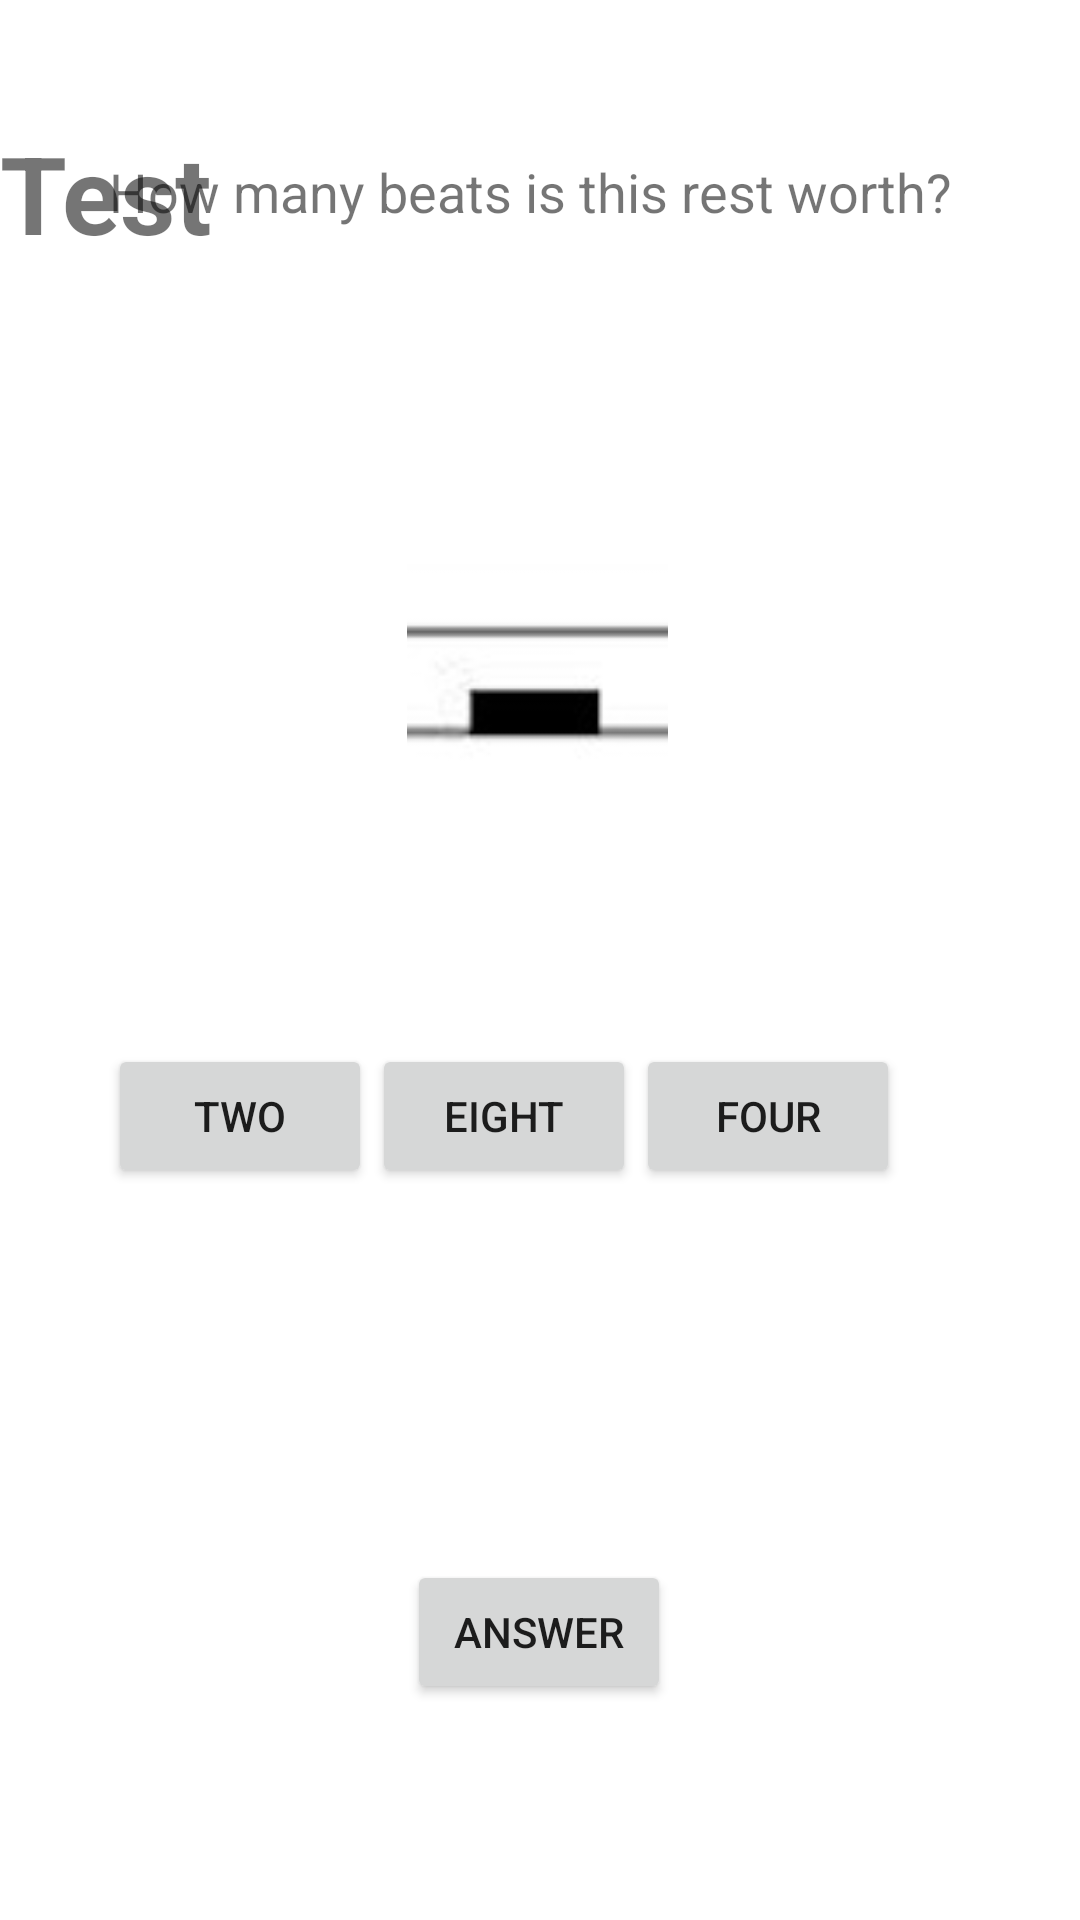

Icon click points for this 1080*1920 phone screenshot, format point (x, y):
minim rest rhythm symbol: point (537, 682)
